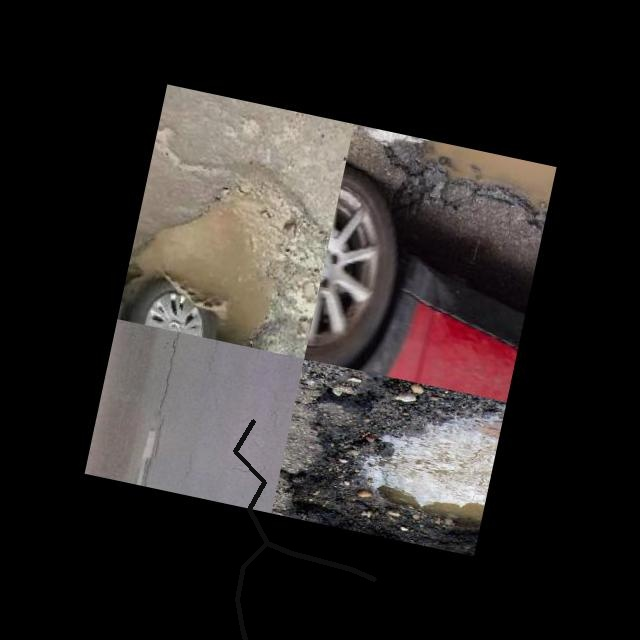road_crack: (219, 411, 283, 640)
